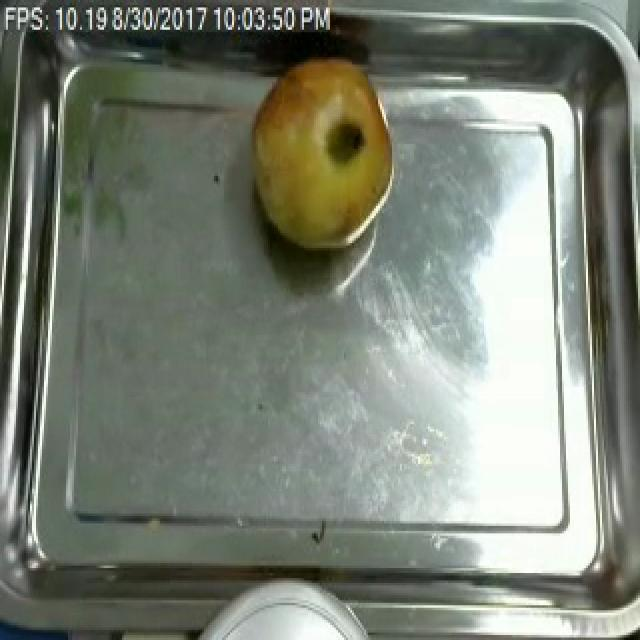fruit: (242, 52, 400, 261)
